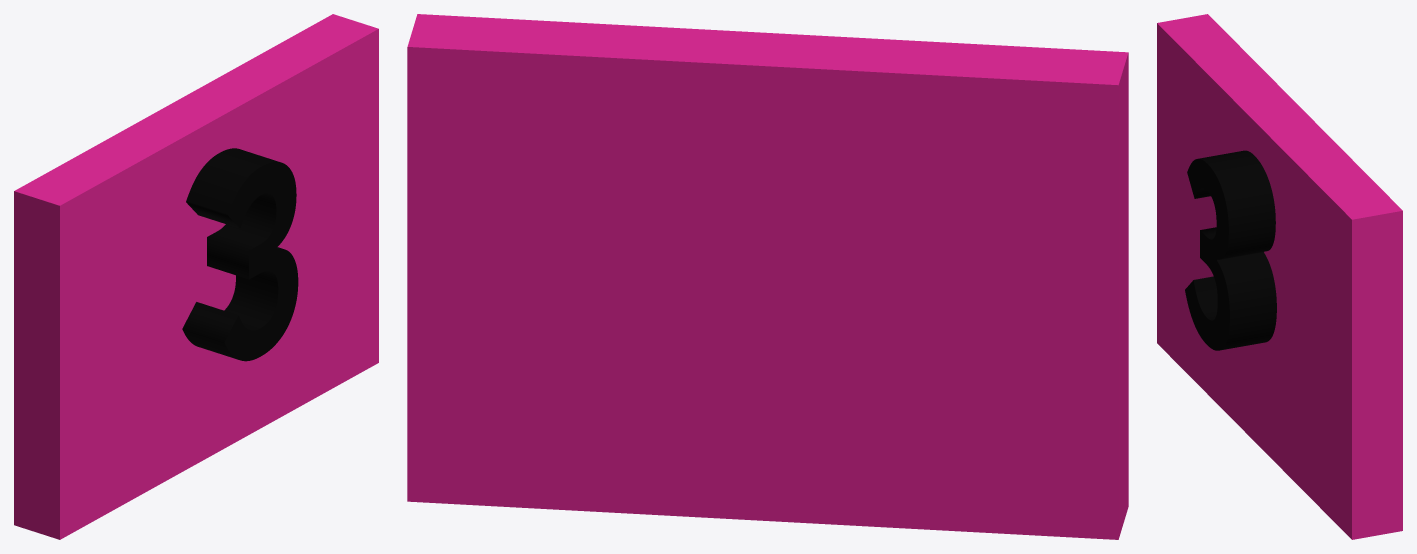
File: tagpink2_1.glb
The picture shows the model from 3 angles, left to right: view 1: azimuth 30°, elevation 25°; view 2: azimuth 150°, elevation 25°; view 3: azimuth 270°, elevation 25°; orthographic projection. The views are drawn at different scales.
Parts seen in each view (by area): view 1: Plane.025, Text.019; view 2: Plane.025; view 3: Plane.025, Text.019.
Part boxes in pixels (bbox=[...]): Plane.025: bbox=[14, 14, 378, 539]; Text.019: bbox=[182, 148, 298, 361]; Plane.025: bbox=[407, 14, 1128, 539]; Plane.025: bbox=[1157, 14, 1402, 539]; Text.019: bbox=[1185, 150, 1276, 350].
Size of the model in its own units: 0.1929 by 0.14 by 0.0975.
